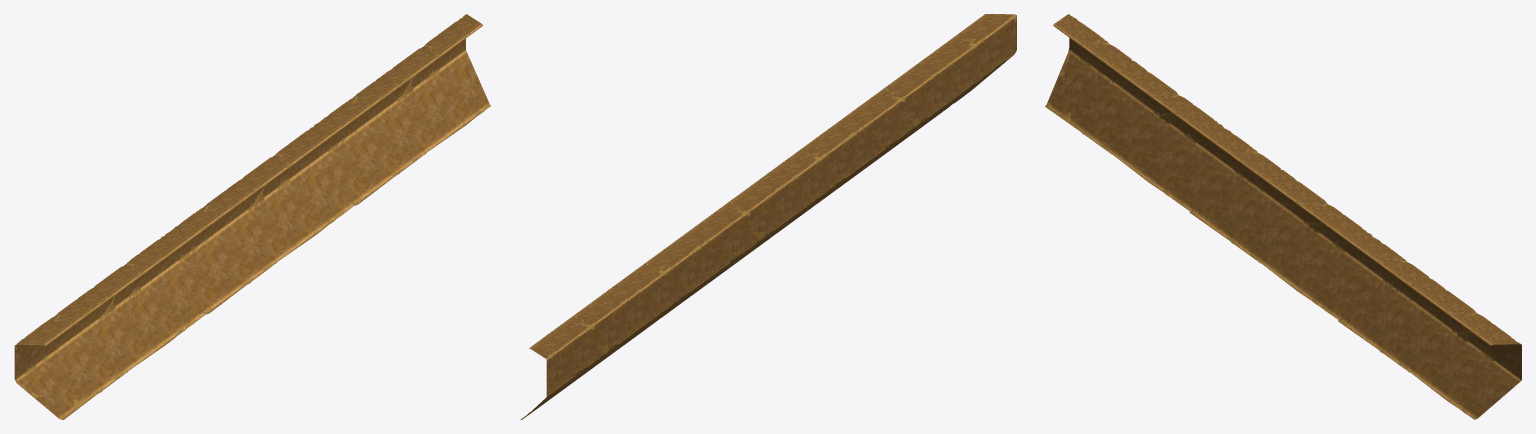
The picture shows the model from 3 angles, left to right: view 1: azimuth 30°, elevation 25°; view 2: azimuth 210°, elevation 25°; view 3: azimuth 270°, elevation 25°; orthographic projection. The views are drawn at different scales.
Parts seen in each view (by area): view 1: SM_Nightmare_Crucible_Arena_BorderC_01v1_LOD0; view 2: SM_Nightmare_Crucible_Arena_BorderC_01v1_LOD0; view 3: SM_Nightmare_Crucible_Arena_BorderC_01v1_LOD0.
Part boxes in pixels (x1,y1,x2,y2): SM_Nightmare_Crucible_Arena_BorderC_01v1_LOD0: (14, 14, 490, 419); SM_Nightmare_Crucible_Arena_BorderC_01v1_LOD0: (520, 14, 1016, 419); SM_Nightmare_Crucible_Arena_BorderC_01v1_LOD0: (1045, 14, 1521, 419).
Size of the model in its own units: 121 by 12.76 by 73.36.
2 materials, 2 textured.
